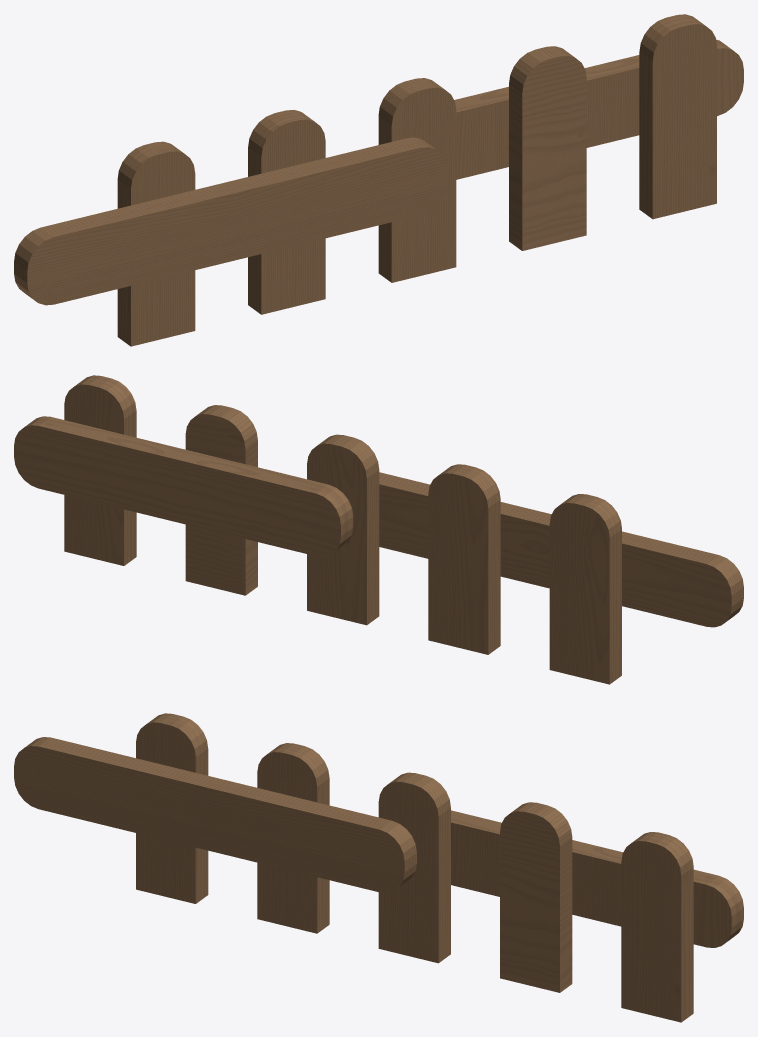
The model's file is fence.fbx.
3 views of the same model, one above another, from view 1: azimuth 30°, elevation 25°; view 2: azimuth 150°, elevation 25°; view 3: azimuth 330°, elevation 25° (orthographic). The views are drawn at different scales.
Parts seen in each view (by area): view 1: stick.006, stick.004, stick.001, stick.005, stick.003, stick.008, stick.007; view 2: stick.005, stick.006, stick.007, stick.008, stick.003, stick.004, stick.001; view 3: stick.006, stick.001, stick.004, stick.005, stick.003, stick.007, stick.008.
Part boxes in pixels (x1=…): stick.006: x1=14, y1=137, x2=446, y2=305; stick.004: x1=639, y1=14, x2=716, y2=219; stick.001: x1=509, y1=46, x2=586, y2=250; stick.005: x1=454, y1=39, x2=743, y2=179; stick.003: x1=378, y1=78, x2=456, y2=282; stick.008: x1=117, y1=141, x2=195, y2=346; stick.007: x1=248, y1=110, x2=325, y2=314; stick.005: x1=14, y1=416, x2=353, y2=556; stick.006: x1=379, y1=472, x2=743, y2=627; stick.007: x1=428, y1=464, x2=500, y2=654; stick.008: x1=549, y1=494, x2=621, y2=684; stick.003: x1=307, y1=434, x2=379, y2=625; stick.004: x1=64, y1=375, x2=136, y2=565; stick.001: x1=185, y1=405, x2=257, y2=595; stick.006: x1=14, y1=737, x2=416, y2=892; stick.001: x1=500, y1=802, x2=572, y2=992; stick.004: x1=621, y1=832, x2=693, y2=1022; stick.005: x1=451, y1=810, x2=743, y2=947; stick.003: x1=378, y1=772, x2=450, y2=963; stick.007: x1=257, y1=743, x2=329, y2=933; stick.008: x1=136, y1=713, x2=208, y2=903.
Size of the model in its own units: 228 by 54.33 by 21.55.
